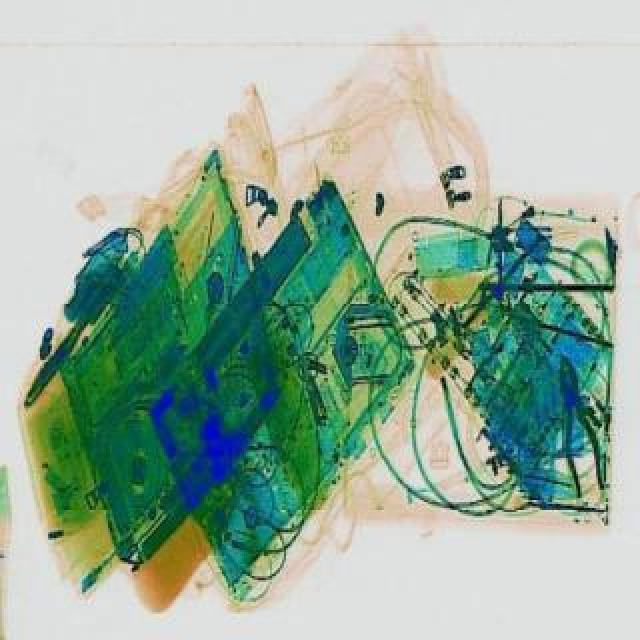wrench: (544, 350, 606, 494)
